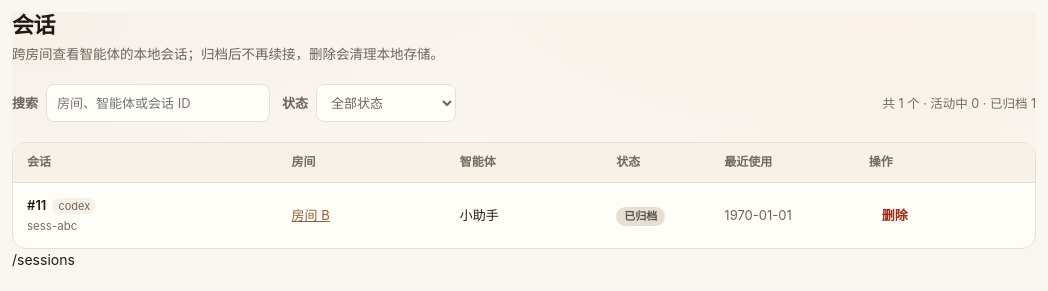
Test: SessionsPage 右键菜单 › 已归档且无运行链接的会话没有归档与运行项
Step 1. Right-click the text "房间 B" → (74, 206), box [13, 182, 1035, 248]
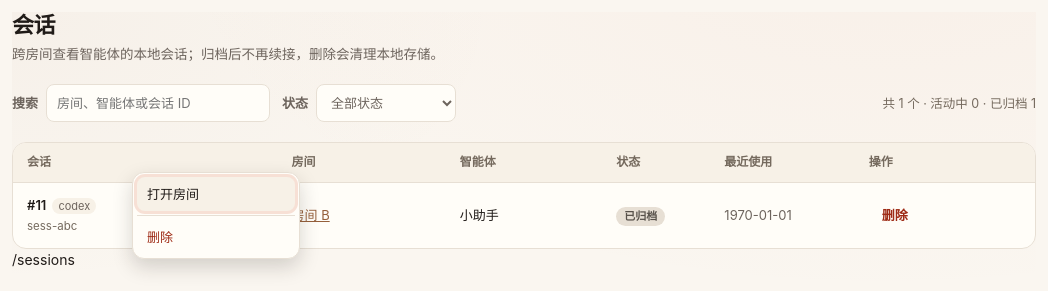
Check: the menu item "删除" is shown, box [137, 220, 295, 254]
